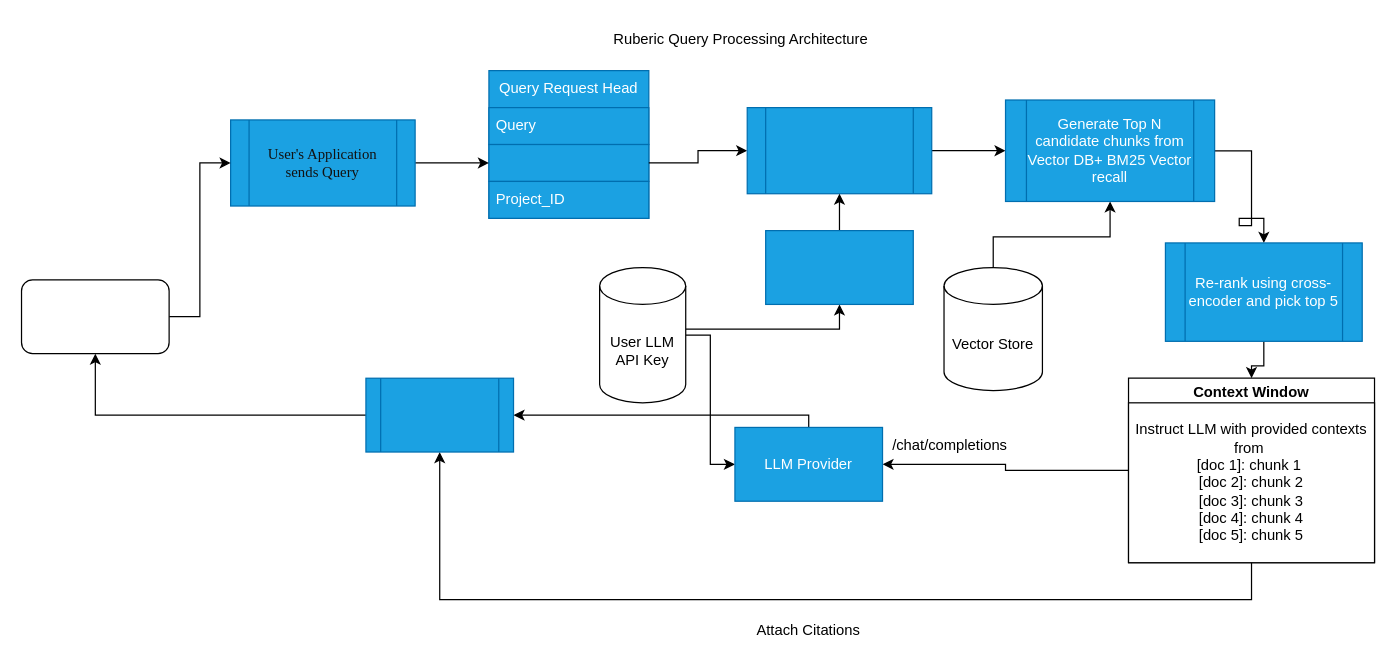
The diagram is 1396 pixels wide and 669 high, and some of its shapes have lost their labels. Here are the shapes that lost their labels. From the top down, the centre of each, then its label:
At [568,162]: "Session_ID".
At [839,150]: "Query Embedding generated".
At [838,266]: "Embeddings model".
At [94,316]: "User's Application".
At [439,414]: "Stream Response from LLM".
